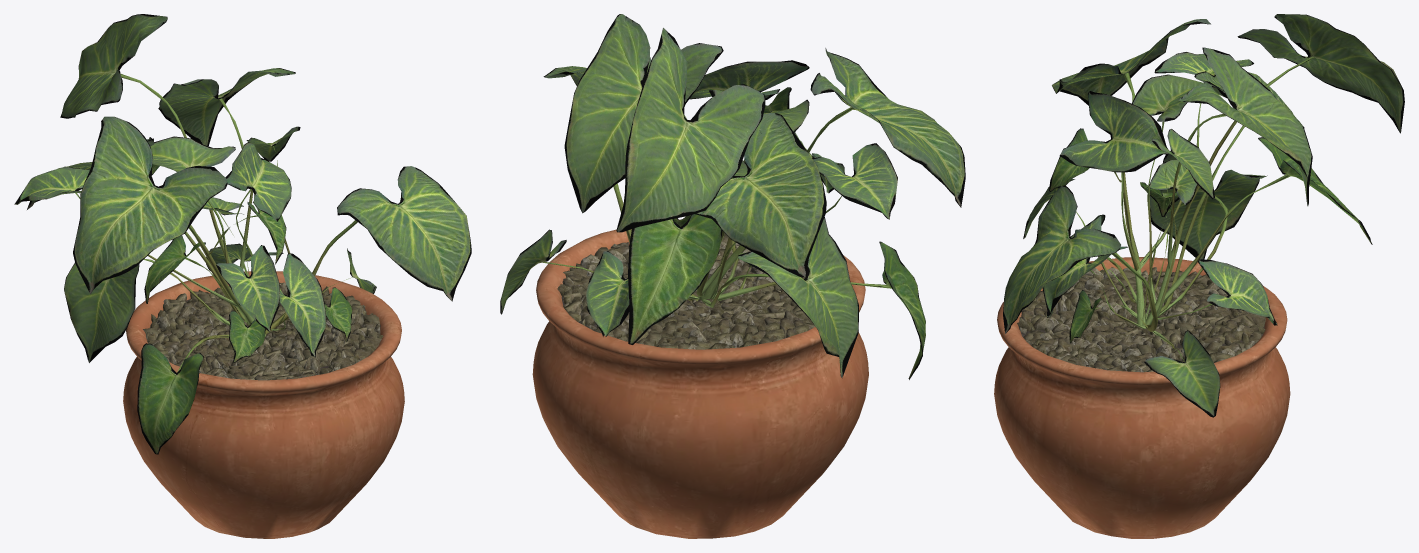
Rendered from plant.fec72231.glb.
3 renders of one model, left to right at view 1: azimuth 30°, elevation 25°; view 2: azimuth 150°, elevation 25°; view 3: azimuth 270°, elevation 25°, orthographic. The views are drawn at different scales.
Visible parts, largest first — view 1: potted_plant_02_leaves, potted_plant_02_pot; view 2: potted_plant_02_leaves, potted_plant_02_pot; view 3: potted_plant_02_pot, potted_plant_02_leaves.
Boxes of the visible parts, left/top/right/bottom form: potted_plant_02_leaves: left=14, top=14, right=471, bottom=454; potted_plant_02_pot: left=123, top=271, right=404, bottom=538; potted_plant_02_leaves: left=500, top=14, right=965, bottom=379; potted_plant_02_pot: left=532, top=219, right=868, bottom=538; potted_plant_02_pot: left=994, top=257, right=1290, bottom=538; potted_plant_02_leaves: left=1003, top=14, right=1404, bottom=417.
Size of the model in its own units: 0.7009 by 0.8401 by 0.6574.
Materials: 2 (2 with a texture image).
